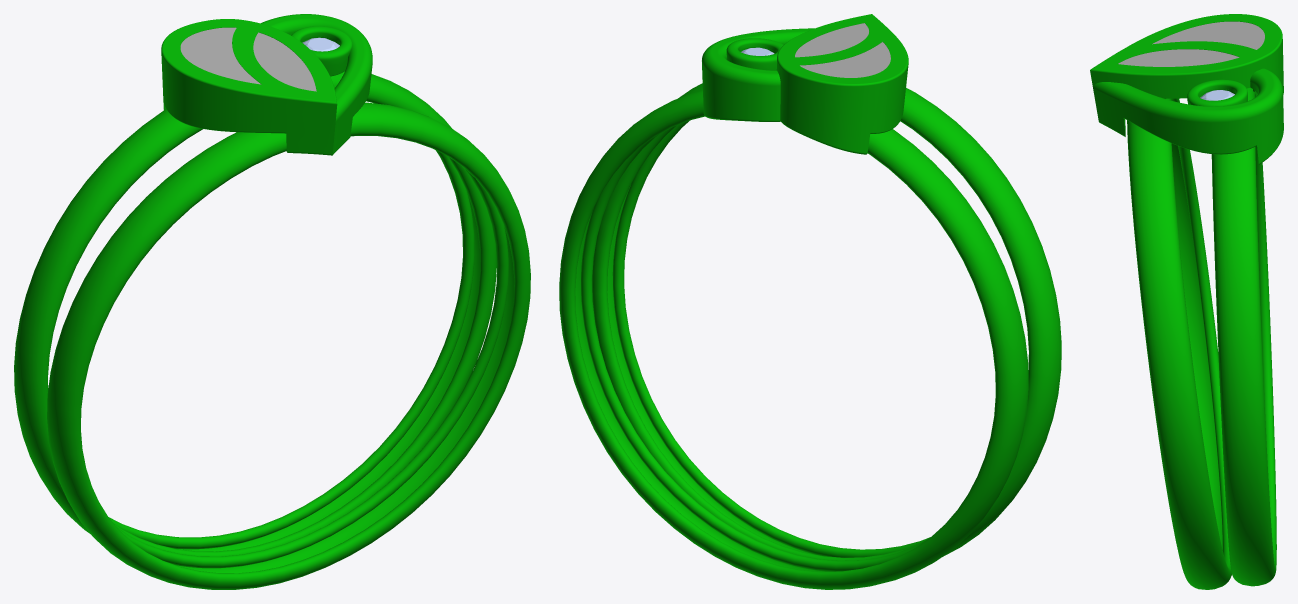
3 renders of one model, left to right at view 1: azimuth 30°, elevation 25°; view 2: azimuth 150°, elevation 25°; view 3: azimuth 270°, elevation 25°, orthographic. The views are drawn at different scales.
Visible parts, largest first — view 1: 1.3dm; view 2: 1.3dm; view 3: 1.3dm.
Boxes of the visible parts, bbox=[...] form: 1.3dm: bbox=[14, 14, 530, 589]; 1.3dm: bbox=[559, 14, 1061, 589]; 1.3dm: bbox=[1090, 14, 1283, 589].
Bounding box in the file's own units: 2.62 × 2.86 × 0.9801.
